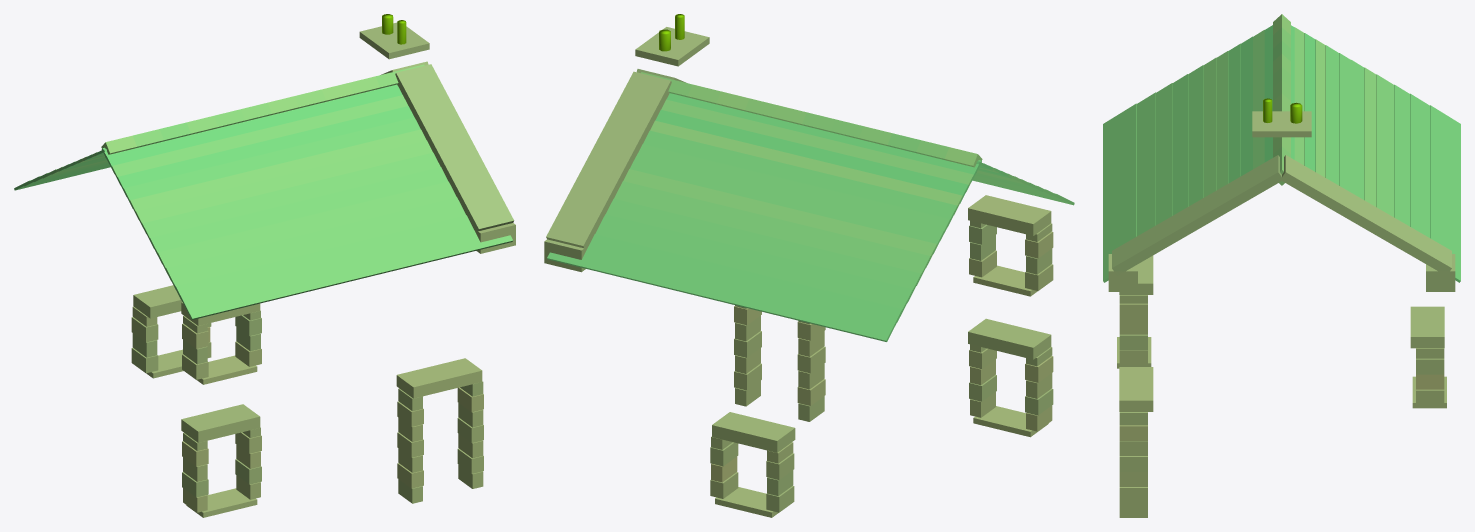
Rendered from SM_Bld_245_Stone.glb.
3 renders of one model, left to right at view 1: azimuth 30°, elevation 25°; view 2: azimuth 150°, elevation 25°; view 3: azimuth 270°, elevation 25°, orthographic. The views are drawn at different scales.
Visible parts, largest first — view 1: SM_Bld_245_Stone; view 2: SM_Bld_245_Stone; view 3: SM_Bld_245_Stone.
Part boxes in pixels (x1,y1,x2,y2): SM_Bld_245_Stone: [14, 14, 515, 517]; SM_Bld_245_Stone: [544, 14, 1074, 517]; SM_Bld_245_Stone: [1103, 14, 1460, 517].
Size of the model in its own units: 6.65 by 8.03 by 6.29.
